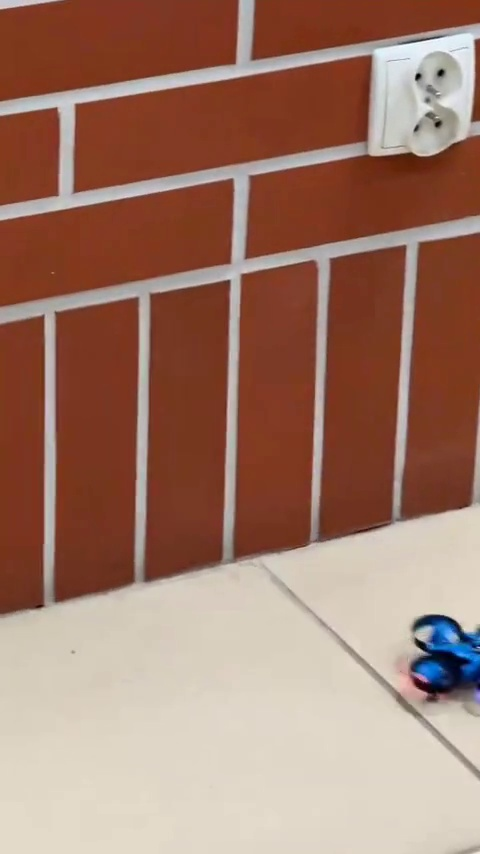drone: (406, 614, 480, 704)
